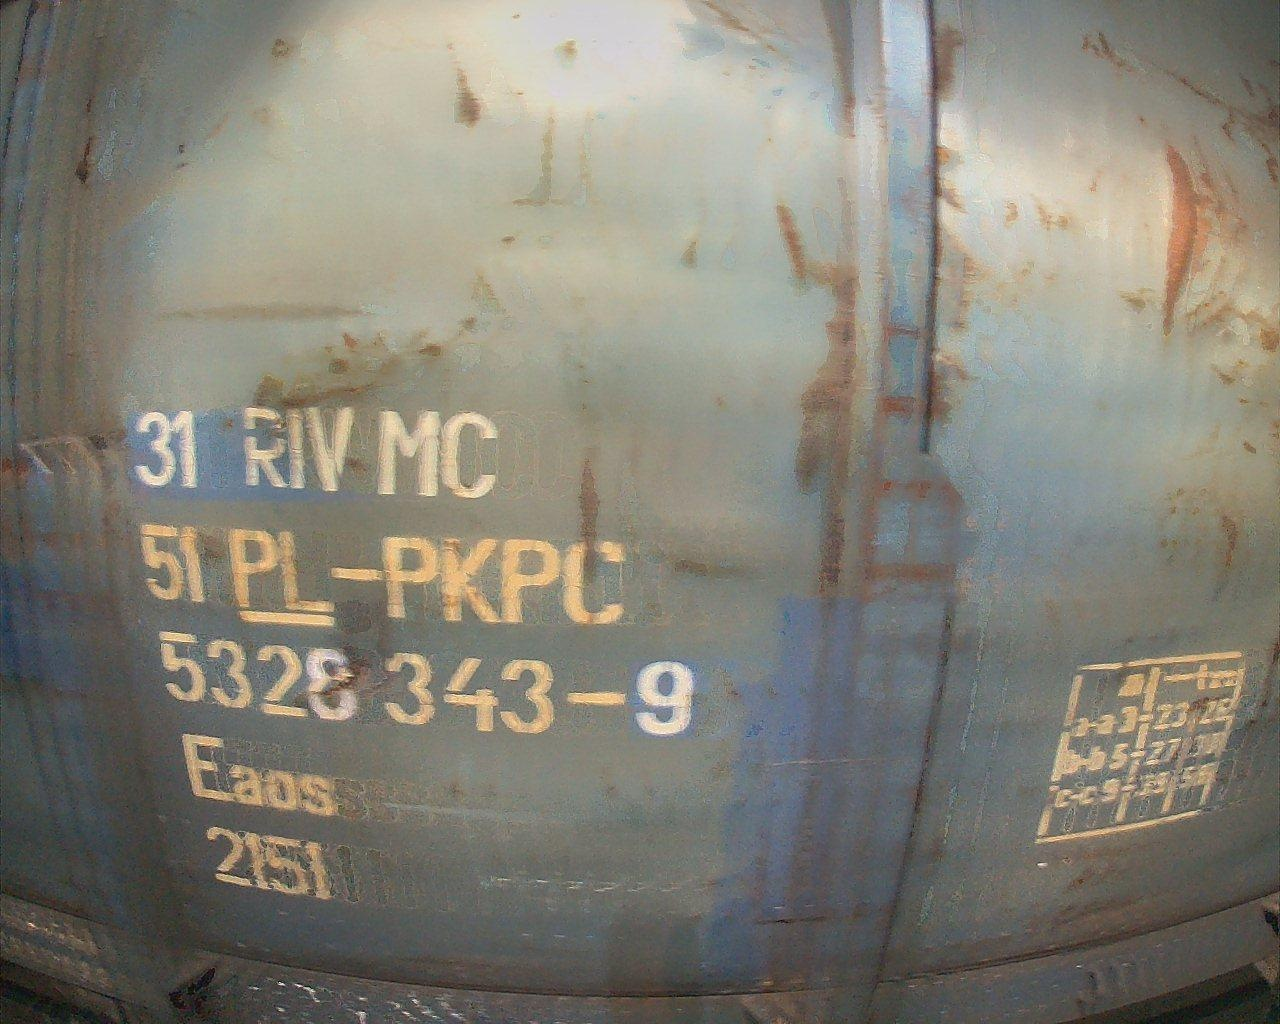UIC: (123, 400, 698, 907)
